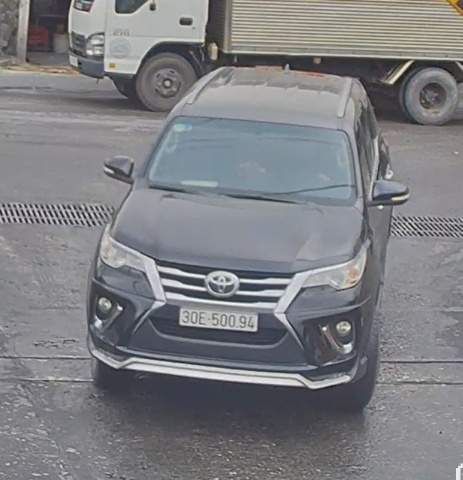vehicle plate: (172, 295, 263, 337)
